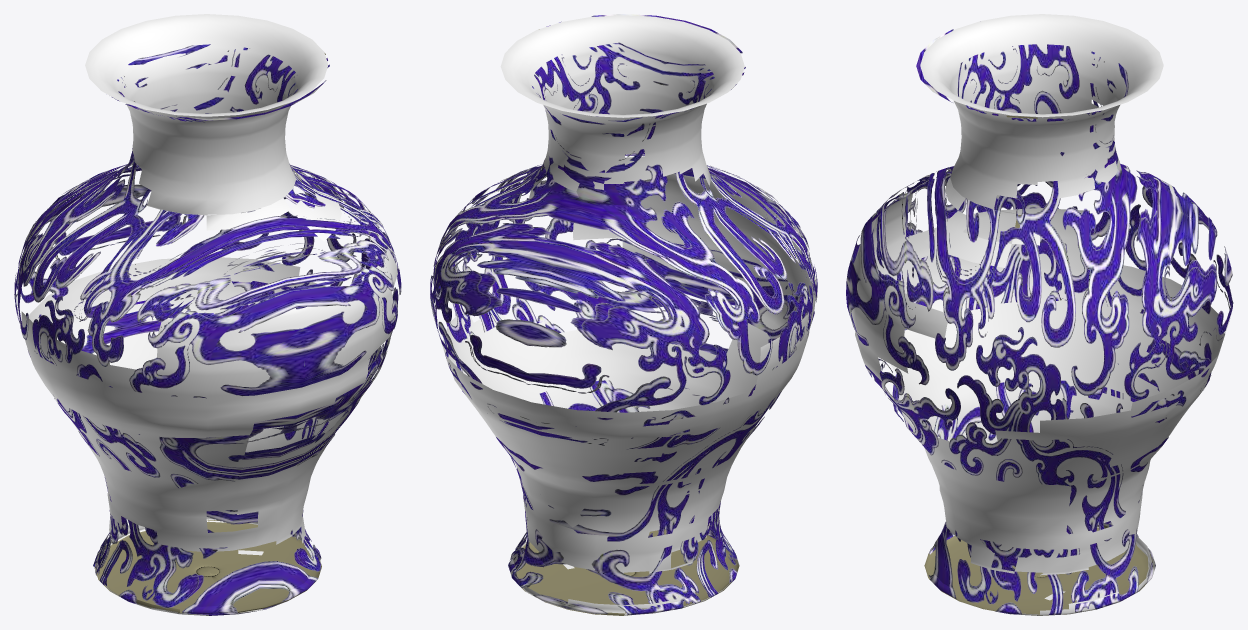
The model's file is pingzi.FBX.
3 views of the same model, side by side, from view 1: azimuth 30°, elevation 25°; view 2: azimuth 150°, elevation 25°; view 3: azimuth 270°, elevation 25° (orthographic).
Parts seen in each view (by area): view 1: Curve001; view 2: Curve001; view 3: Curve001.
Boxes of the visible parts, box(x1,y1,x2,y2) form: Curve001: box(14, 14, 401, 615); Curve001: box(430, 14, 817, 615); Curve001: box(846, 14, 1233, 615).
Size of the model in its own units: 174 by 250 by 174.
